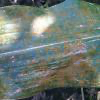Corn rust leaf: (1, 1, 99, 99)
